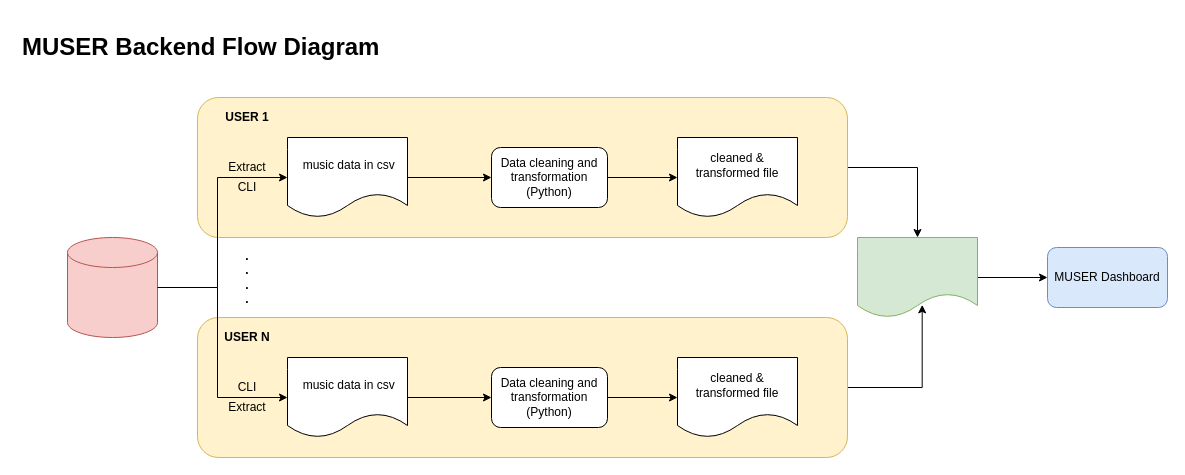
Image size: 1185x475. Some labels were removed from this diagram. The centre of each missing label's shape, as x and y in pixels:
Combined CSV file for multiple users: pixel 917 277
Firebase Database: pixel 112 287
